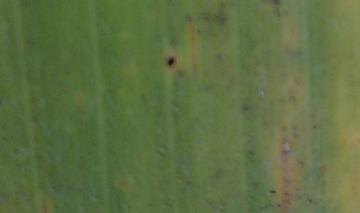tarspot: (269, 1, 285, 19), (165, 56, 175, 68), (268, 188, 277, 196)
